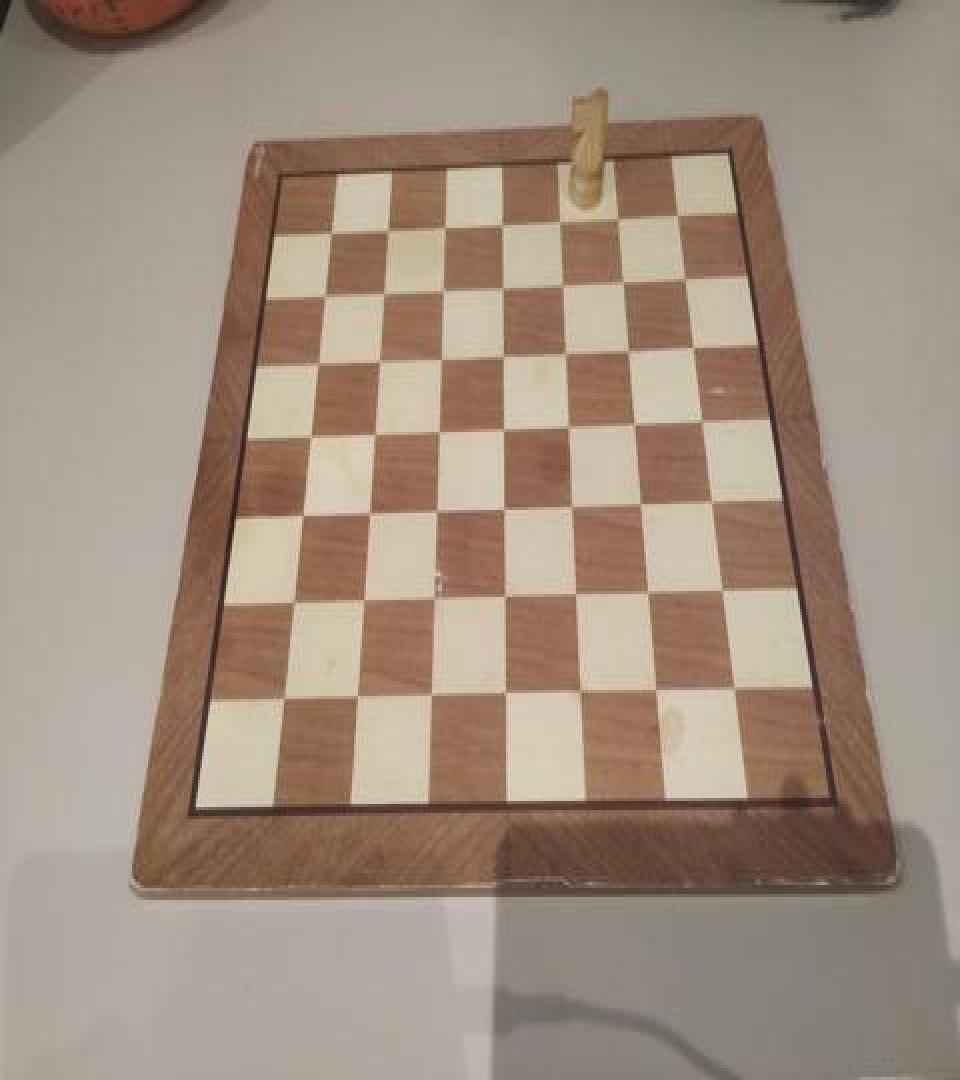xcorner: (315, 280, 335, 311), (669, 199, 689, 230), (276, 687, 296, 717), (350, 686, 370, 716), (424, 684, 444, 714), (574, 680, 594, 710), (650, 678, 670, 708), (726, 676, 746, 706), (286, 591, 306, 621), (356, 590, 376, 620), (498, 585, 518, 615), (569, 582, 589, 612), (715, 578, 735, 608), (294, 504, 314, 534), (361, 501, 381, 531), (429, 498, 449, 528), (497, 496, 517, 526), (565, 494, 585, 524), (634, 492, 654, 522), (704, 489, 724, 519), (302, 423, 322, 453), (366, 420, 386, 450), (431, 417, 451, 447), (496, 416, 516, 446), (561, 412, 581, 442), (627, 410, 647, 440), (694, 408, 714, 438), (308, 350, 328, 380), (370, 346, 390, 376), (432, 344, 452, 374), (495, 340, 515, 370), (558, 338, 578, 368), (621, 336, 641, 366), (685, 333, 705, 363), (374, 278, 394, 308), (434, 274, 454, 304), (494, 272, 514, 302), (554, 270, 574, 300), (615, 267, 635, 297), (676, 264, 696, 294), (321, 218, 341, 248), (378, 214, 398, 244), (435, 212, 455, 242), (493, 208, 513, 238), (551, 206, 571, 236), (610, 202, 630, 232), (499, 683, 519, 712), (427, 587, 447, 616), (642, 581, 662, 610)
